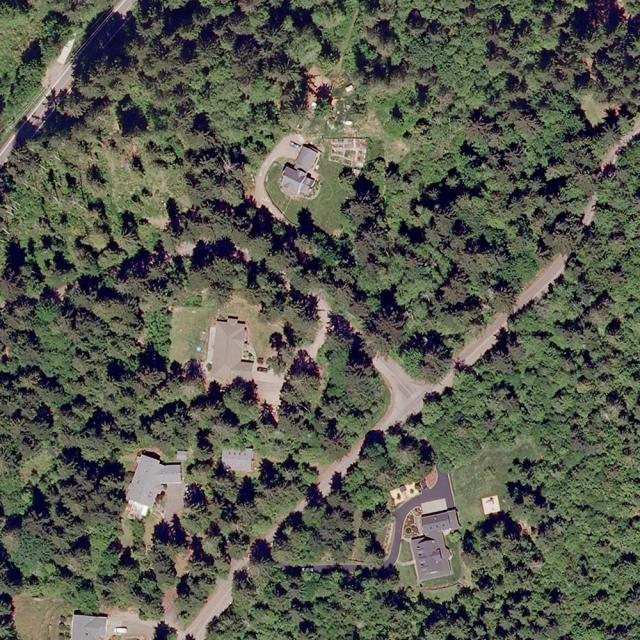building: (119, 450, 187, 528), (208, 316, 256, 381), (279, 140, 323, 201), (409, 531, 455, 583), (420, 508, 460, 535), (221, 448, 254, 472), (419, 497, 448, 515), (480, 495, 502, 515), (176, 450, 189, 463)
greenland: (265, 11, 640, 402), (0, 94, 141, 579), (57, 412, 340, 640), (66, 66, 291, 332), (265, 400, 444, 606), (74, 332, 210, 437), (270, 308, 358, 468), (419, 332, 515, 470), (435, 429, 554, 533), (136, 374, 261, 462), (65, 21, 184, 109), (316, 314, 391, 449), (0, 545, 23, 640), (287, 271, 315, 346)
metalled_road: (342, 251, 599, 437), (183, 551, 257, 640), (247, 127, 306, 223), (312, 438, 368, 494), (595, 116, 640, 175), (302, 292, 337, 360), (403, 472, 455, 510), (387, 504, 408, 565), (302, 560, 368, 573), (580, 192, 602, 227)
